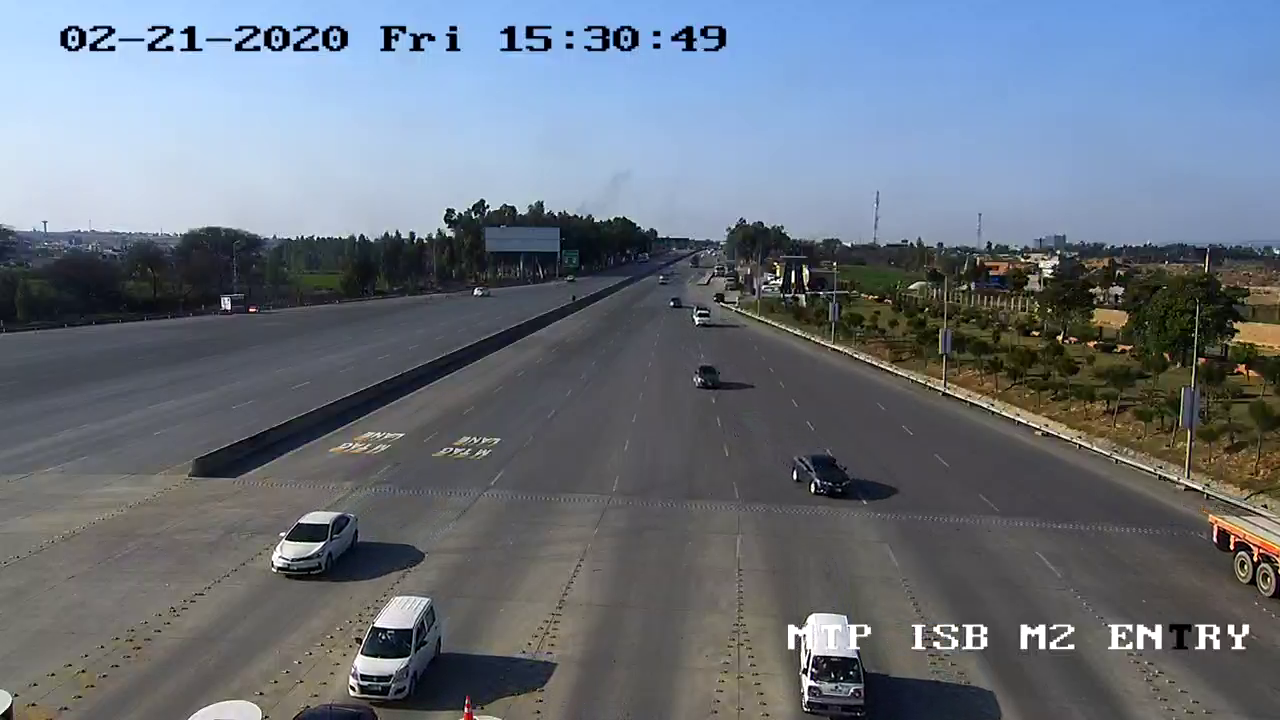f1: (337, 578, 448, 712), (259, 495, 365, 589), (777, 438, 860, 509)
